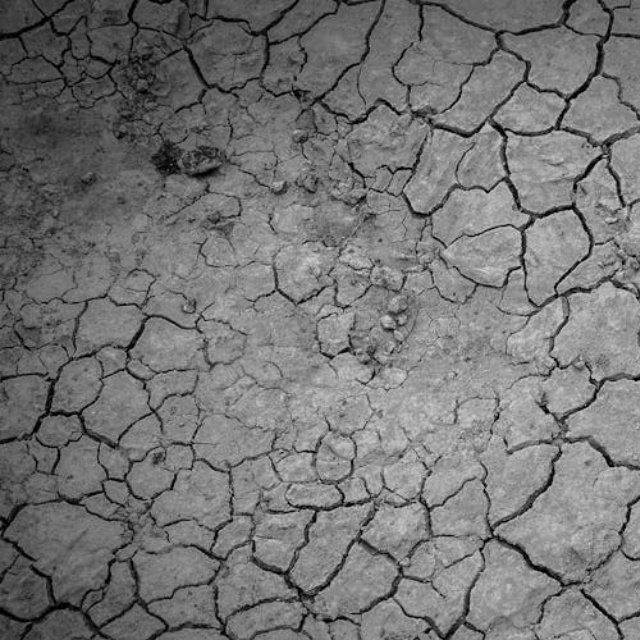网状裂隙: (344, 0, 640, 553)
